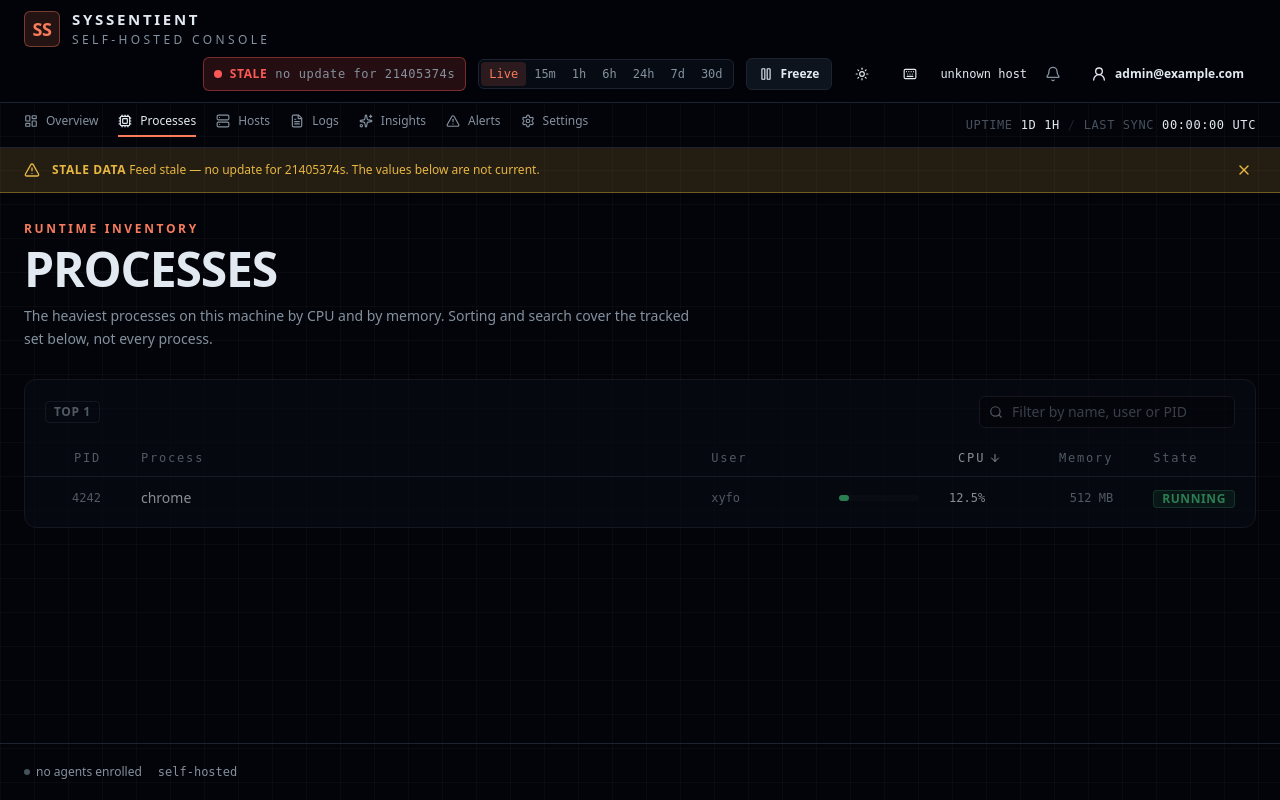
it: Processes page › filters rows by the search box
In the search field named "Filter processes": (1107, 412) [979,396,1235,428], type "nothing-matches-this"
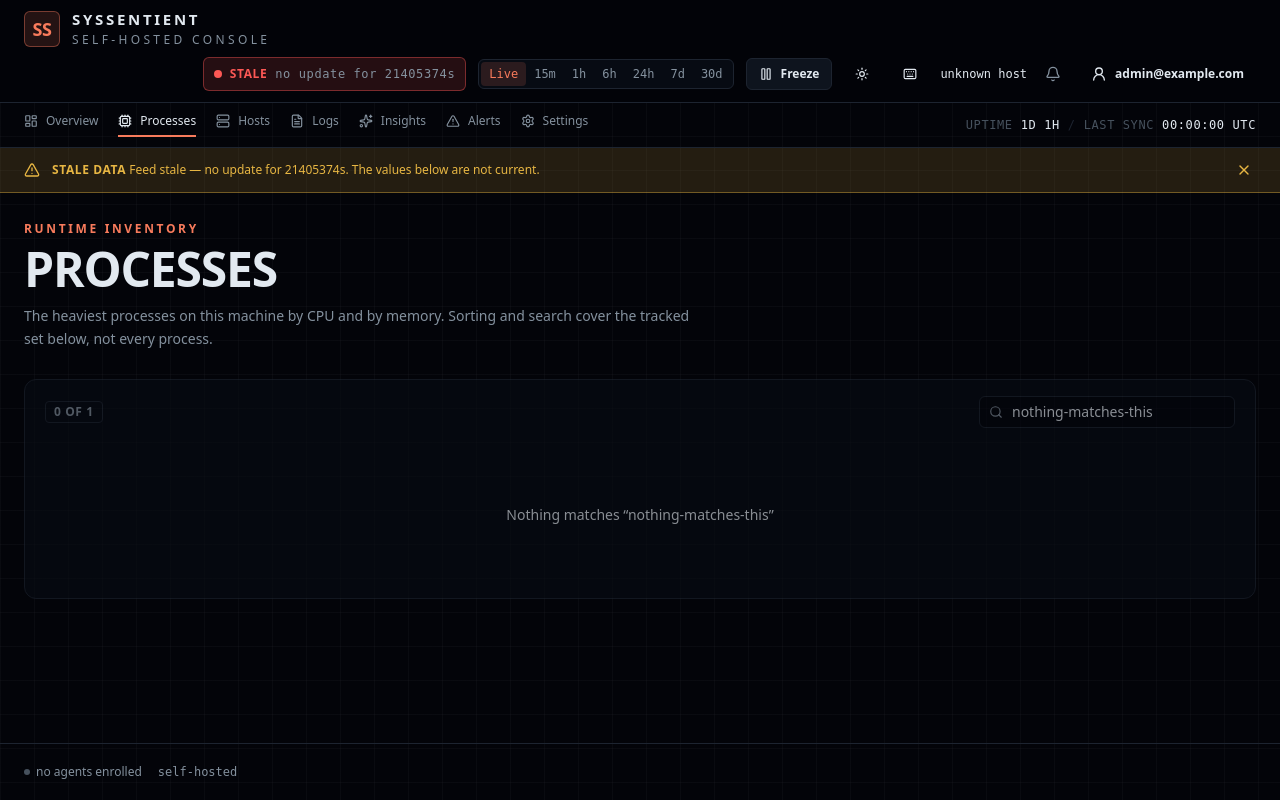
Result: the text "Nothing matches “nothing-matches-this”" is shown at [506,504,774,524]
